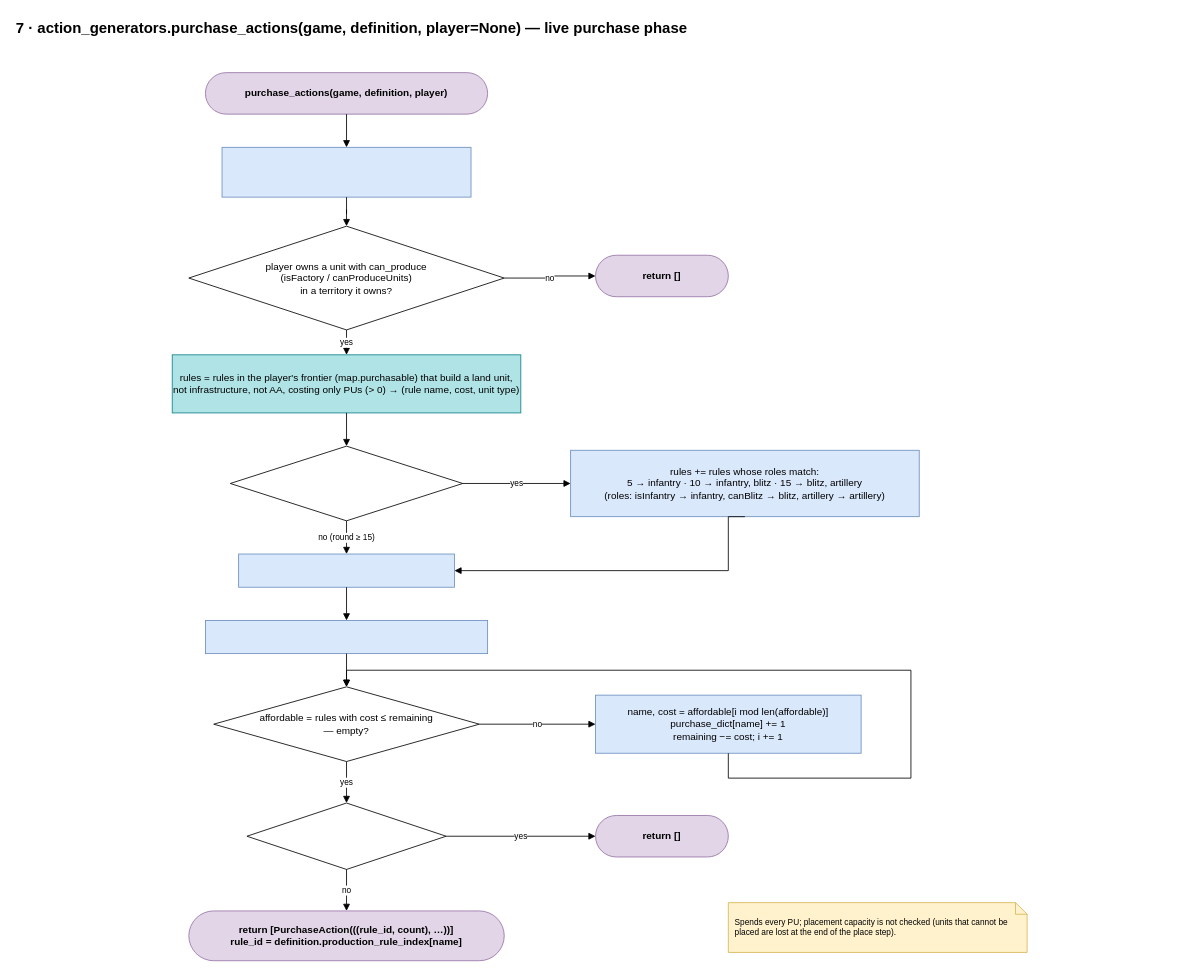
This 1190x975 diagram has some shape labels left out. Here are the shapes that lost their labels. From the top down, the box of each, then its label:
(221, 146, 471, 197): player = player or game.whoAmI resources = game.players[player].PU
(229, 445, 463, 521): first PURCHASE_BIAS entry with round < limit?
(238, 553, 454, 587): sort rules by cost (ascending)
(205, 620, 488, 654): purchase_dict = {}; remaining = resources; i = 0
(246, 802, 446, 869): purchase_dict empty?
